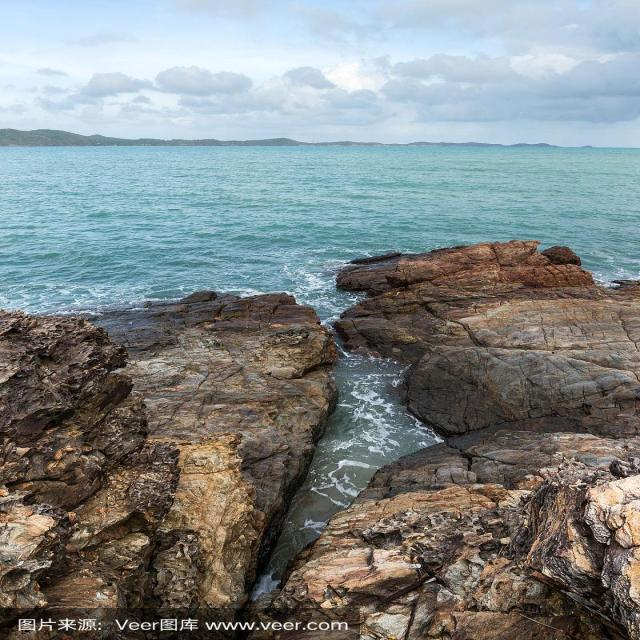reef: (300, 221, 639, 640), (0, 281, 398, 628)
